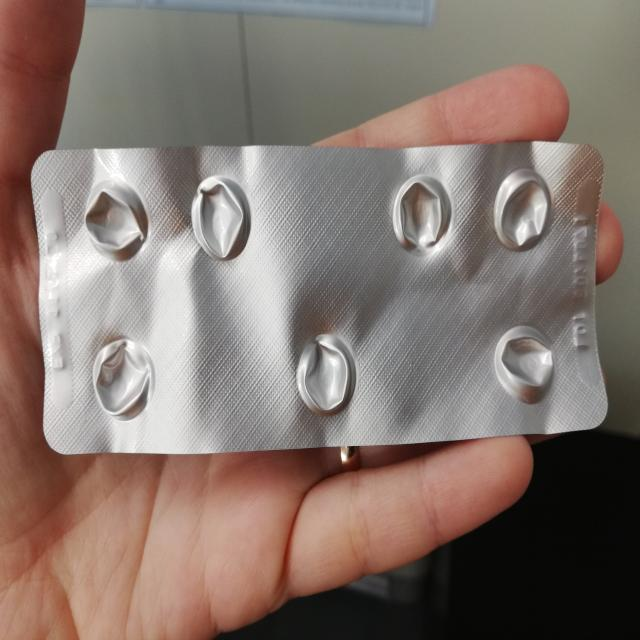Empty: (289, 325, 359, 421), (186, 169, 255, 266), (87, 329, 158, 423), (78, 176, 152, 264), (491, 165, 556, 255), (492, 321, 559, 407), (388, 171, 454, 257)
